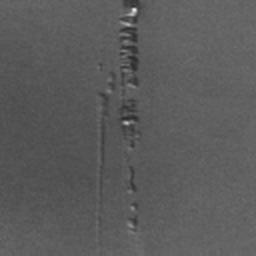Slag inclusion: (93, 0, 146, 256), (125, 201, 145, 241), (125, 166, 138, 192)
